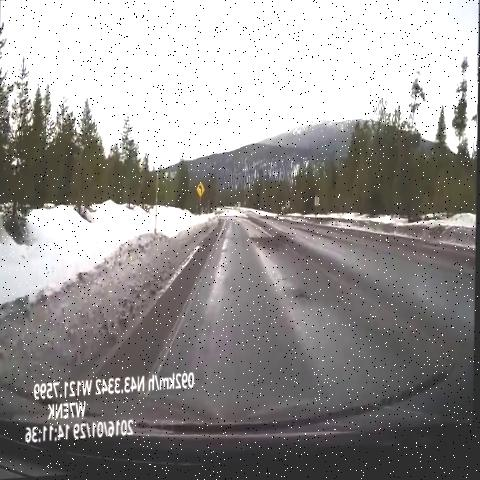pothole: (250, 236, 283, 262), (289, 287, 314, 318), (214, 247, 229, 265)
